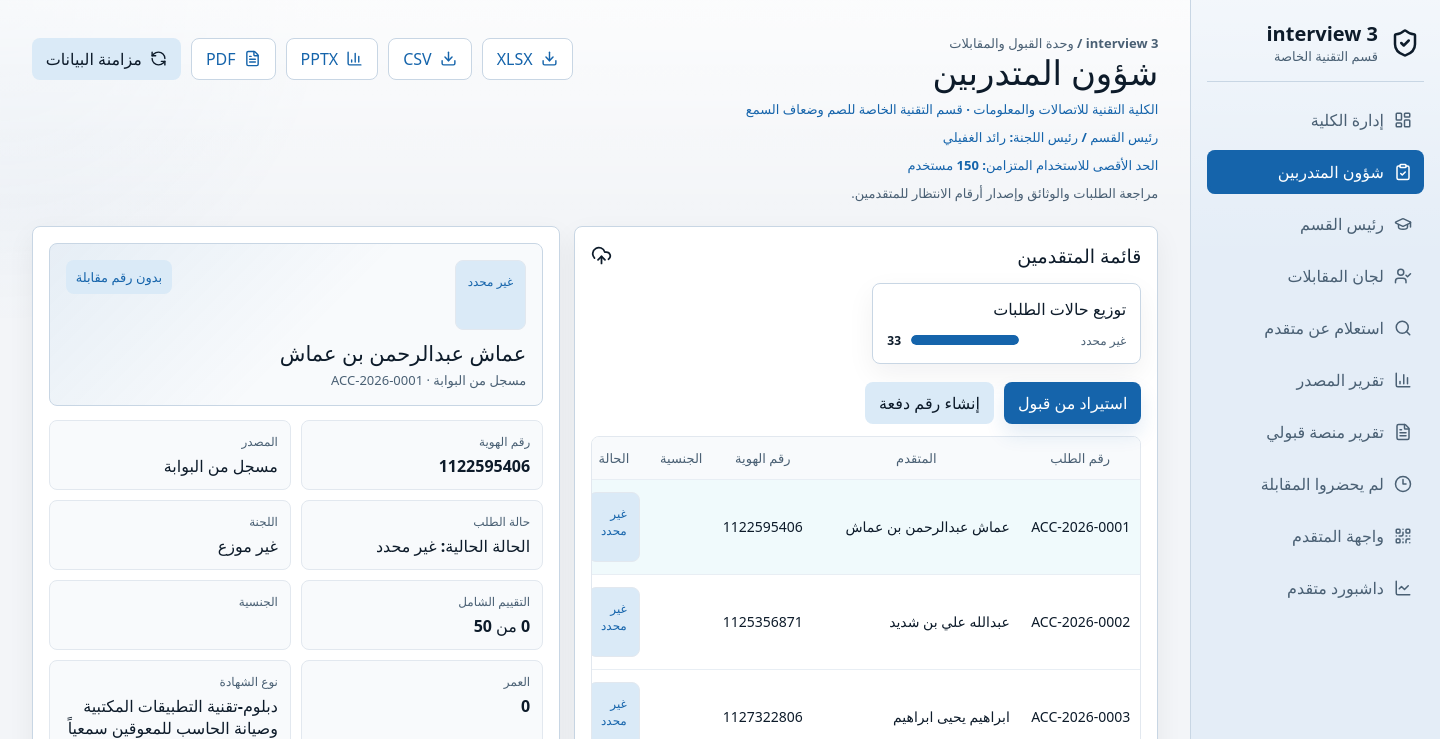
Test case: Interview management system › shows source report counts and distinguishes portal and direct registration
Click the button "تقرير المصدر" at [1316, 380], box [1207,358,1424,402]
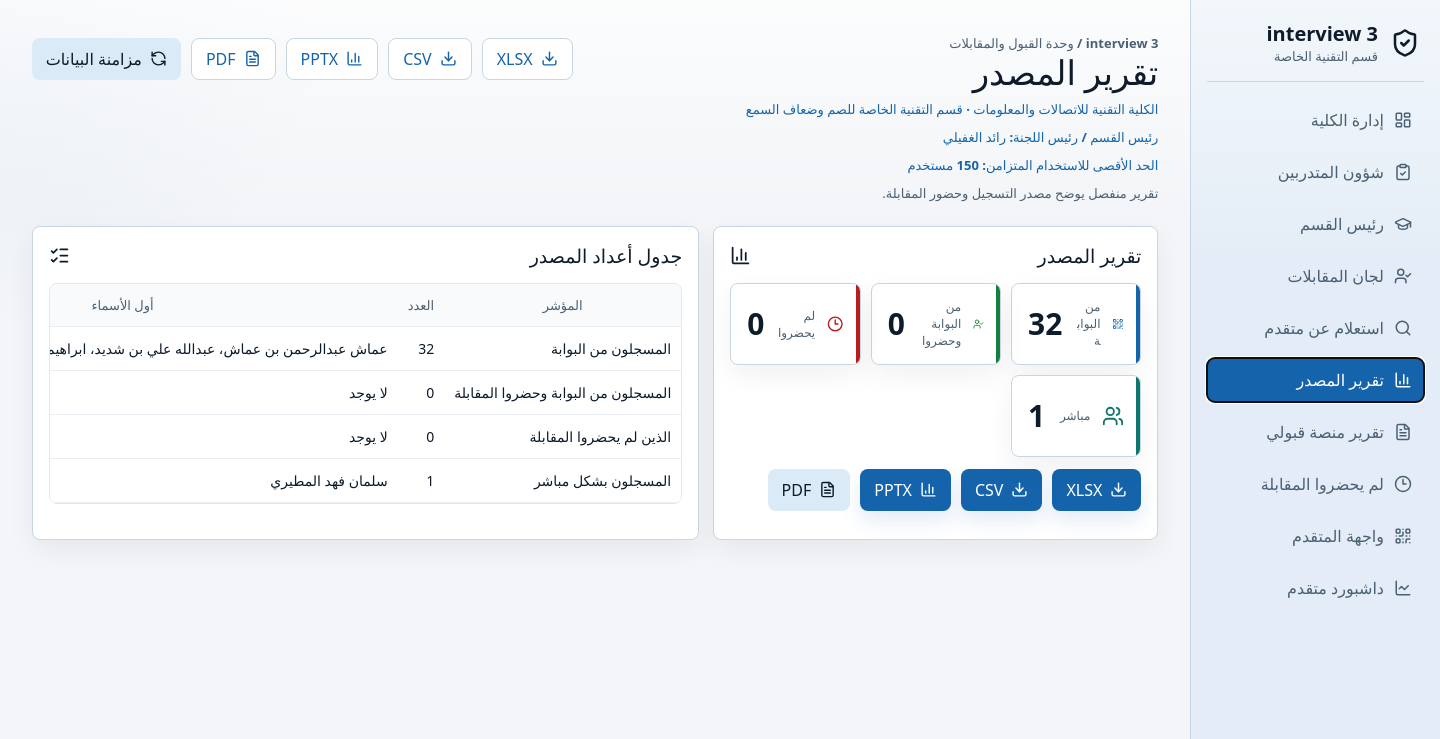
Expected: the heading "تقرير المصدر" below "interview 3 / وحدة القبول والمقابلات" is shown, [973,49,1158,95]
Expected: the text "المسجلون من البوابة وحضروا المقابلة" is shown, [444,370,681,414]
Expected: the text "الذين لم يحضروا المقابلة" is shown, [444,414,681,458]
